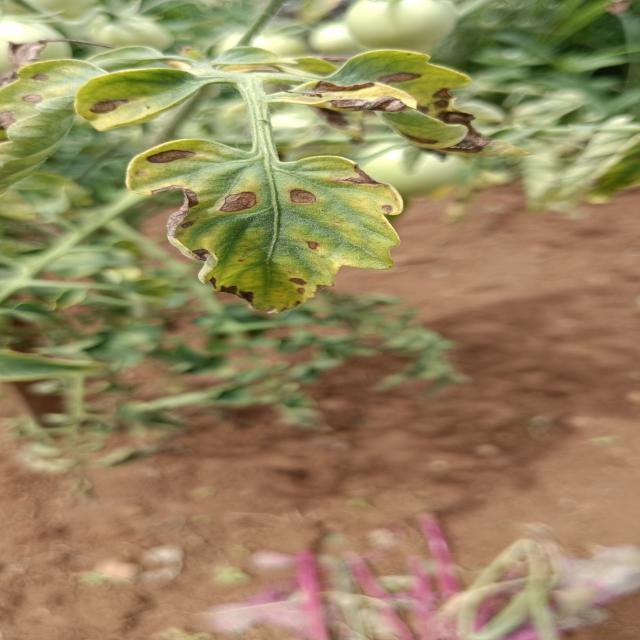tomato_early blight: (130, 136, 403, 318), (286, 49, 540, 158), (72, 68, 209, 130), (290, 69, 426, 119)
